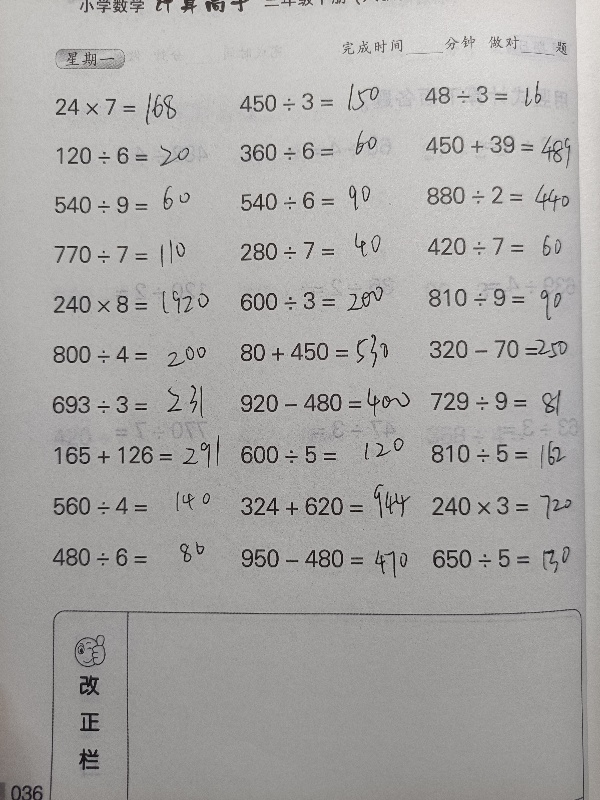equation: (232, 327, 412, 376), (47, 87, 227, 135), (417, 127, 597, 173), (231, 378, 411, 422), (233, 538, 413, 580), (47, 234, 227, 276), (47, 380, 224, 422), (418, 176, 598, 216), (422, 434, 590, 476), (423, 384, 599, 423), (423, 543, 594, 581), (44, 540, 224, 574), (233, 489, 413, 523), (45, 489, 225, 523), (232, 438, 412, 472), (46, 438, 226, 472), (231, 284, 411, 318), (231, 234, 411, 268), (232, 183, 412, 217), (231, 134, 411, 168), (231, 85, 411, 119), (421, 332, 600, 366), (45, 338, 225, 371), (45, 288, 225, 321), (419, 230, 599, 263), (47, 189, 227, 222), (48, 139, 228, 172), (416, 78, 596, 111), (420, 281, 594, 312), (424, 489, 589, 520)
